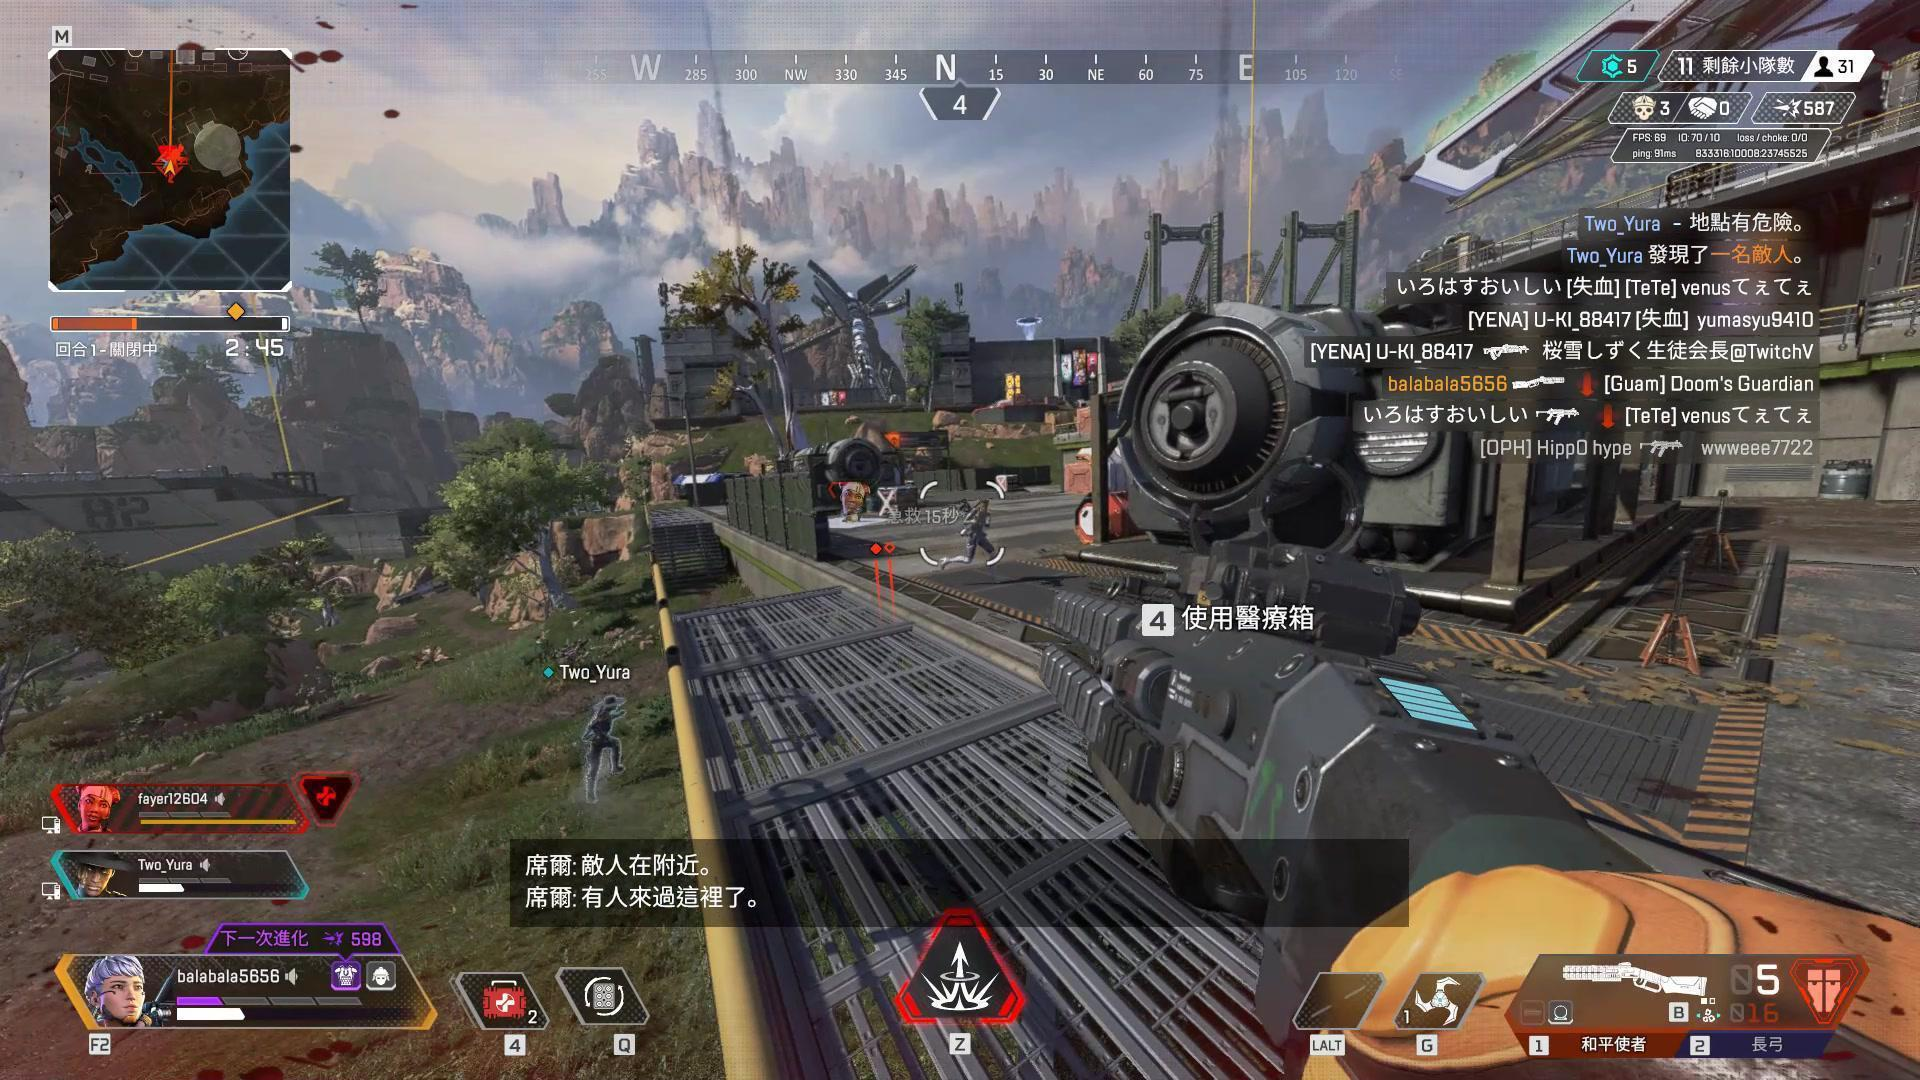avatar: (582, 691, 628, 805), (962, 498, 1000, 566)
